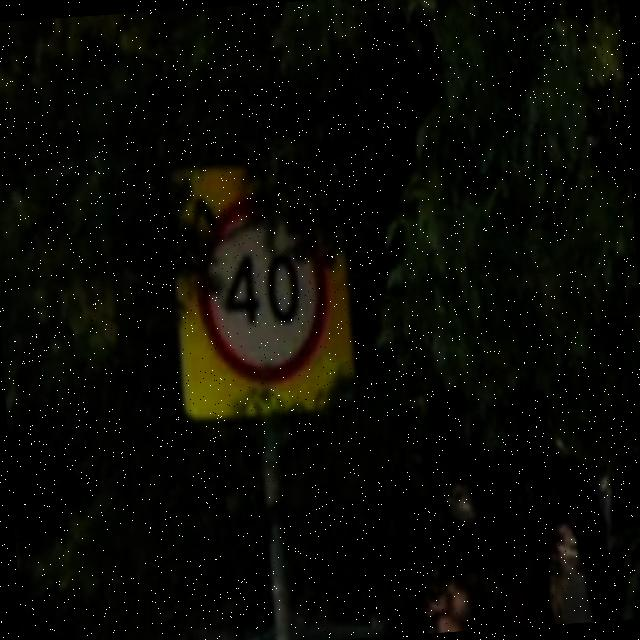Ograniczenie predkosci do 40: (188, 186, 334, 388)
